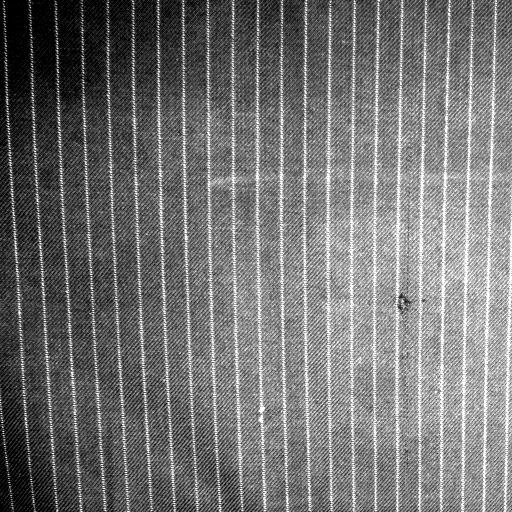fabric_hole: (393, 287, 413, 323)
